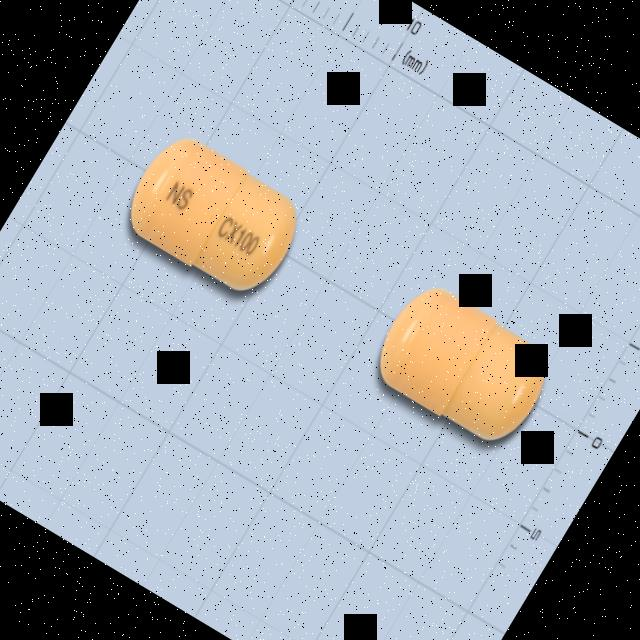Cefixime Cap- Nelson: (109, 120, 320, 316)
